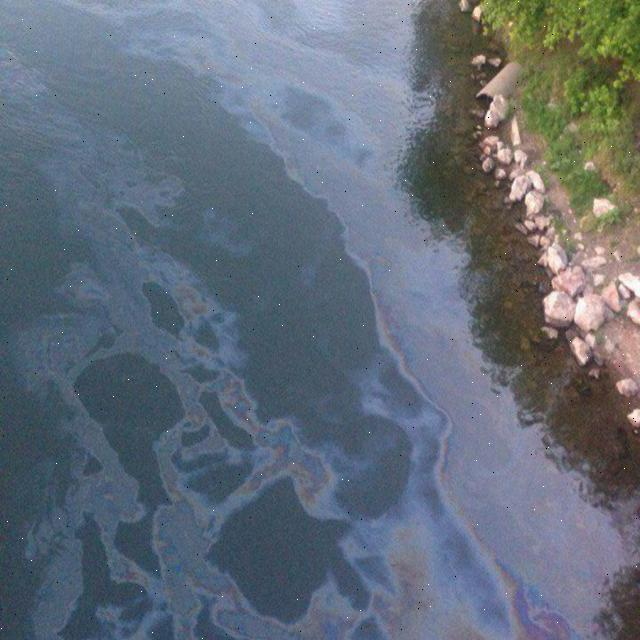sheen: (65, 1, 629, 638), (0, 38, 361, 638), (341, 423, 515, 638)
